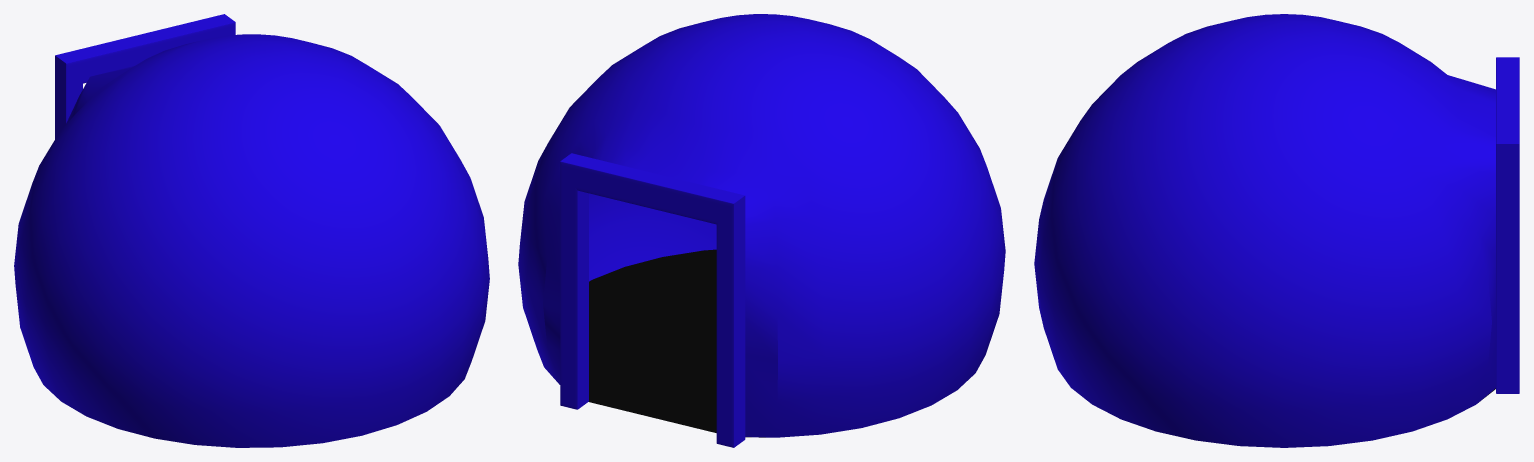
The model's file is dentro.glb.
3 renders of one model, left to right at view 1: azimuth 30°, elevation 25°; view 2: azimuth 150°, elevation 25°; view 3: azimuth 270°, elevation 25°, orthographic. The views are drawn at different scales.
Visible parts, largest first — view 1: Sphere, Cube; view 2: Sphere, Sphere.002, Cube; view 3: Sphere, Cube.
Part boxes in pixels (x1=…): Sphere: x1=14, y1=34, x2=489, y2=447; Cube: x1=55, y1=14, x2=235, y2=138; Sphere: x1=518, y1=14, x2=1005, y2=437; Sphere.002: x1=588, y1=249, x2=765, y2=437; Cube: x1=560, y1=153, x2=745, y2=447; Sphere: x1=1034, y1=14, x2=1495, y2=447; Cube: x1=1496, y1=57, x2=1519, y2=393.
Bounding box in the file's own units: 5.65 × 3.91 × 5.49.
